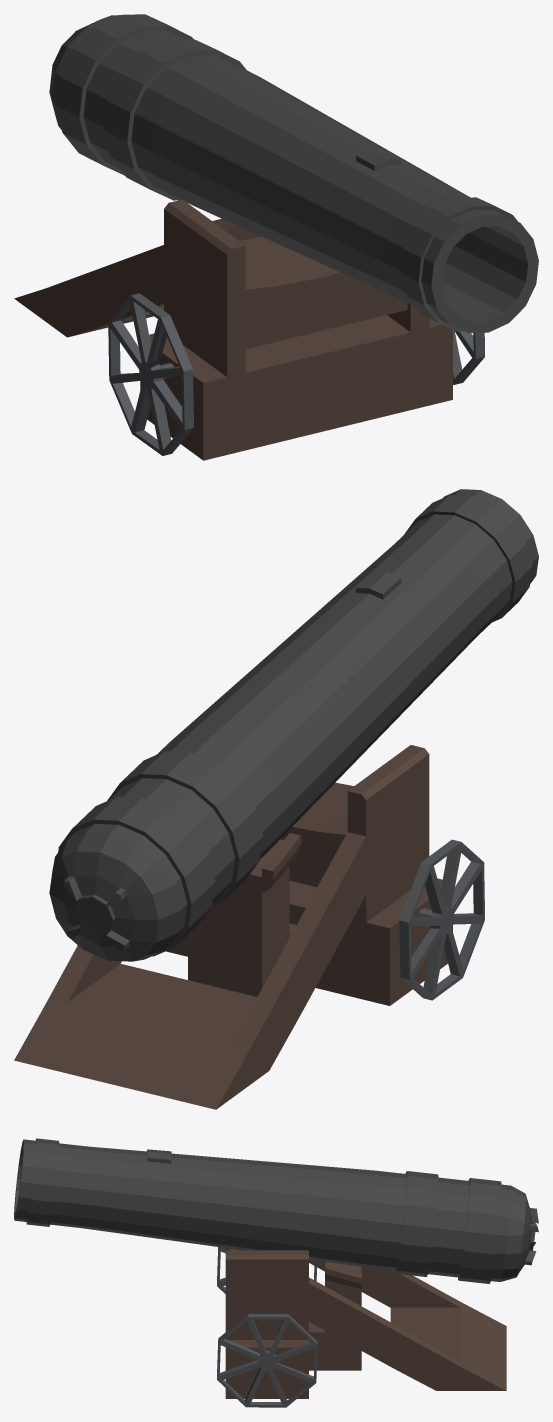
Rendered from cannon.fbx.
The picture shows the model from 3 angles, top to bottom: view 1: azimuth 30°, elevation 25°; view 2: azimuth 150°, elevation 25°; view 3: azimuth 270°, elevation 25°; orthographic projection. The views are drawn at different scales.
Parts seen in each view (by area): view 1: Cylinder, Cube; view 2: Cylinder, Cube; view 3: Cylinder, Cube.
Boxes of the visible parts, box(x1,y1,x2,y2) form: Cylinder: box(49, 14, 538, 332); Cube: box(14, 199, 484, 460); Cylinder: box(49, 489, 538, 961); Cube: box(14, 745, 484, 1109); Cylinder: box(14, 1138, 538, 1283); Cube: box(217, 1247, 506, 1407).
Size of the model in its own units: 206 by 216 by 473.
